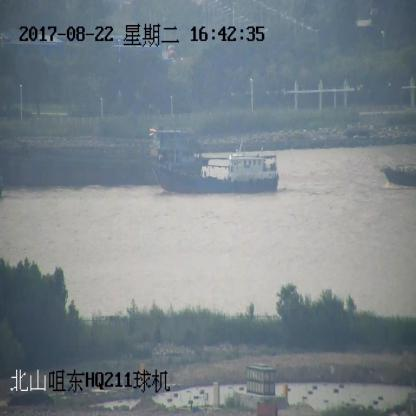Bulk Carrier: (0, 129, 207, 189)
